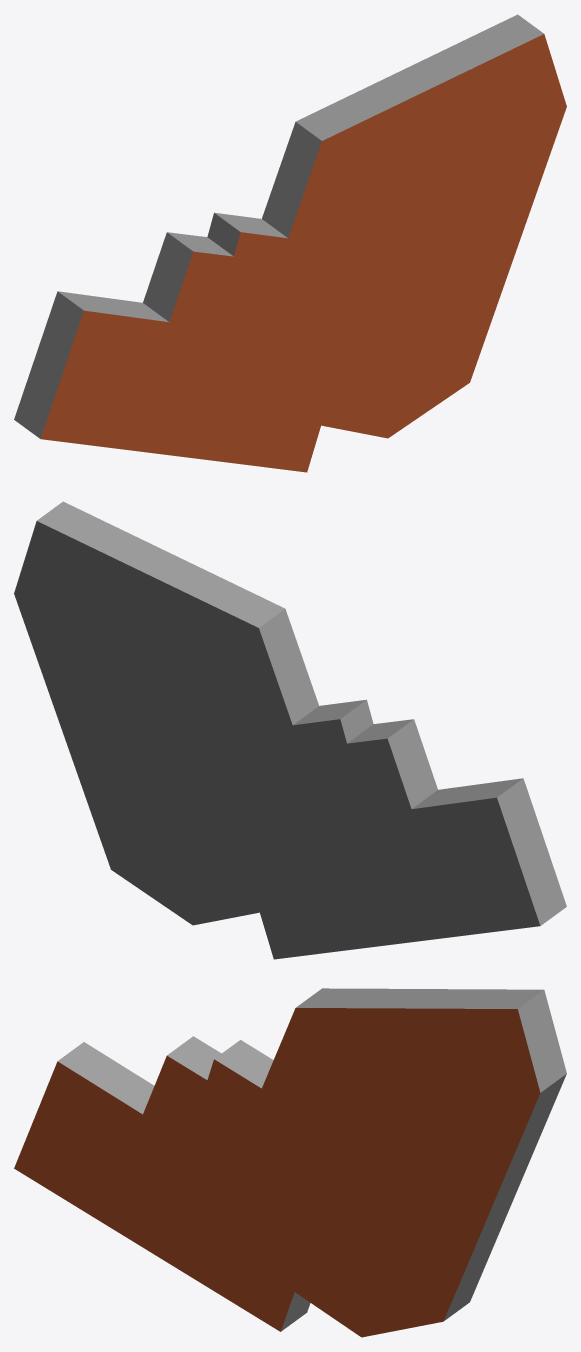
File: construction_3942_assumed_A_Casa_h6m.obj
3 renders of one model, top to bottom at view 1: azimuth 30°, elevation 25°; view 2: azimuth 150°, elevation 25°; view 3: azimuth 330°, elevation 25°, orthographic.
Parts seen in each view (by area): view 1: construction_3942_assumed_A_Casa; view 2: construction_3942_assumed_A_Casa; view 3: construction_3942_assumed_A_Casa.
Part boxes in pixels (bbox=[...]): construction_3942_assumed_A_Casa: bbox=[14, 14, 566, 472]; construction_3942_assumed_A_Casa: bbox=[14, 501, 566, 959]; construction_3942_assumed_A_Casa: bbox=[14, 988, 566, 1337].
Size of the model in its own units: 68.74 by 47.51 by 6.
